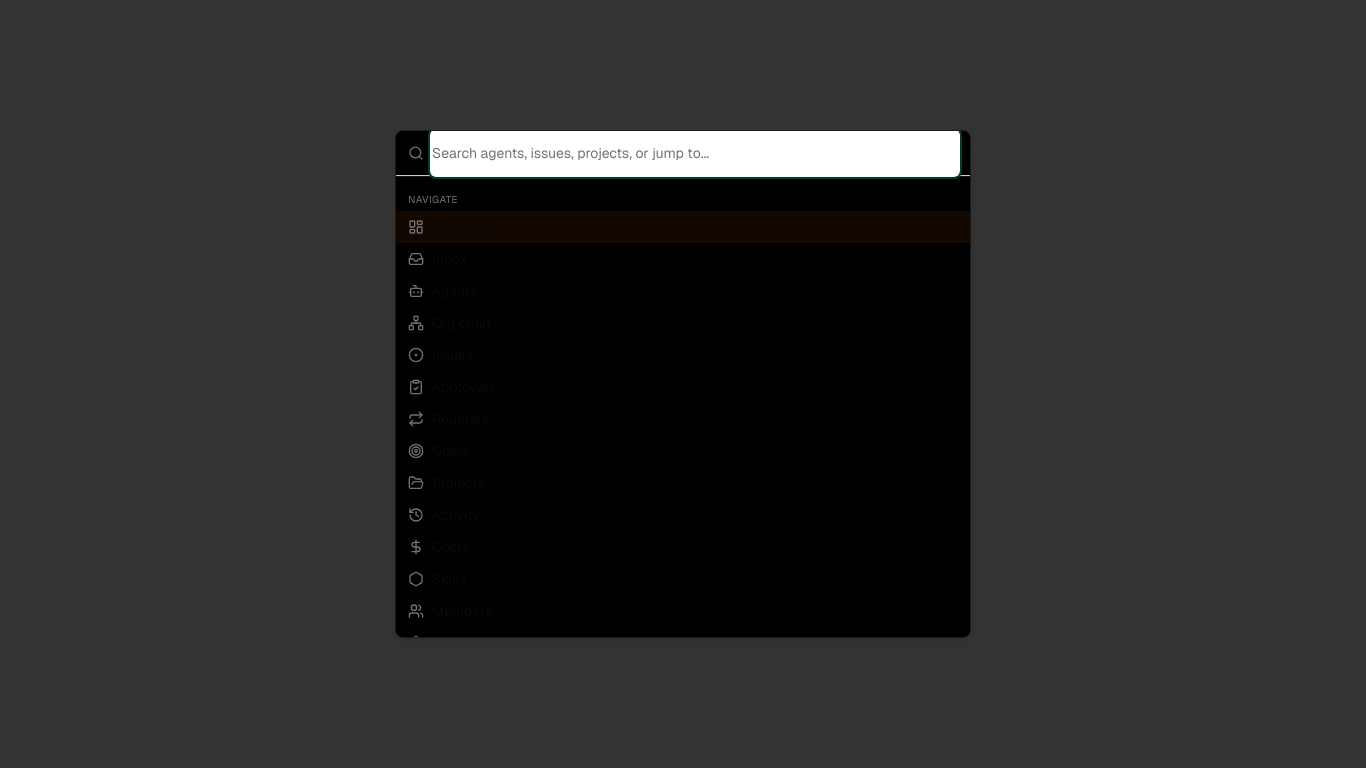
Test: typing in search filters nav actions
This screenshot has width=1366, height=768.
Type "inbo" into the field with placeholder "Search agents, issues, projects, or jump to..." at (695, 153), box top-left (432, 131), bottom-right (958, 175)
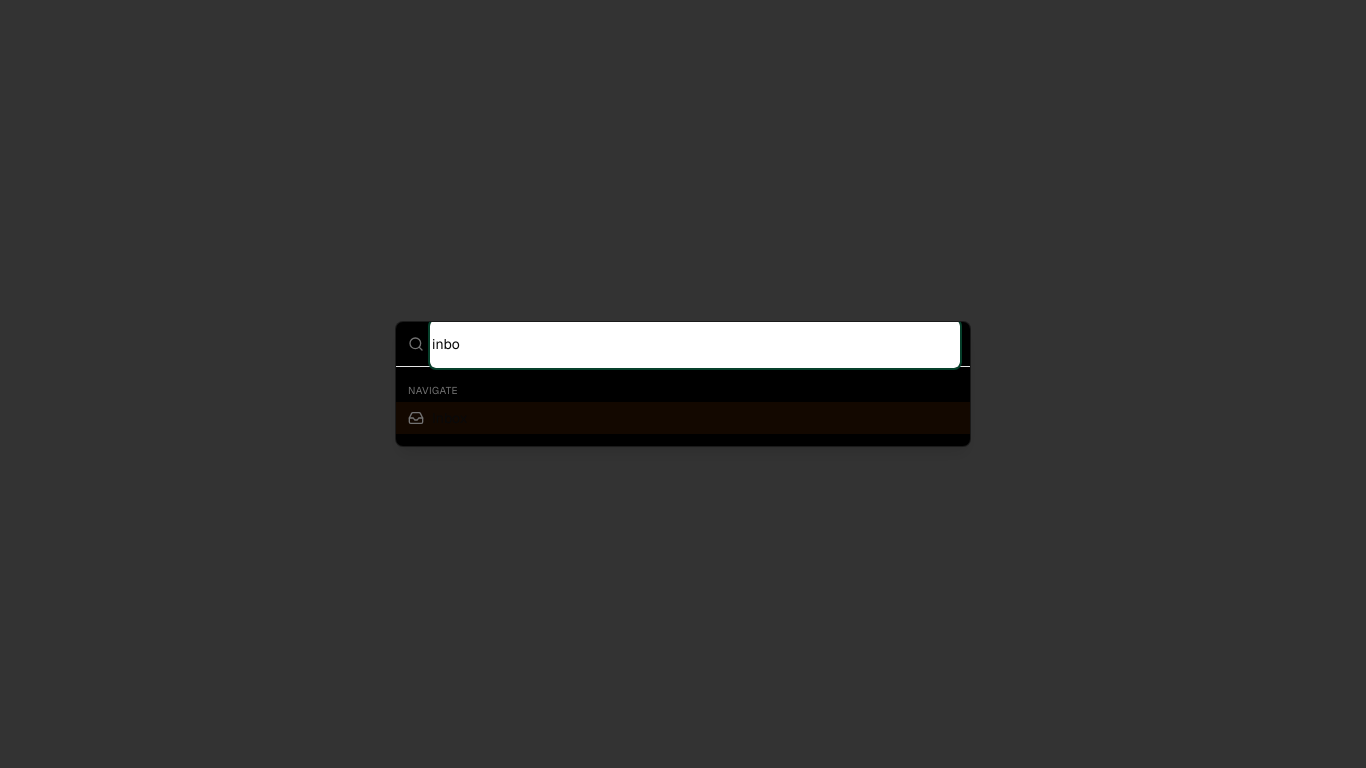
Result: the option "Dashboard" is gone
